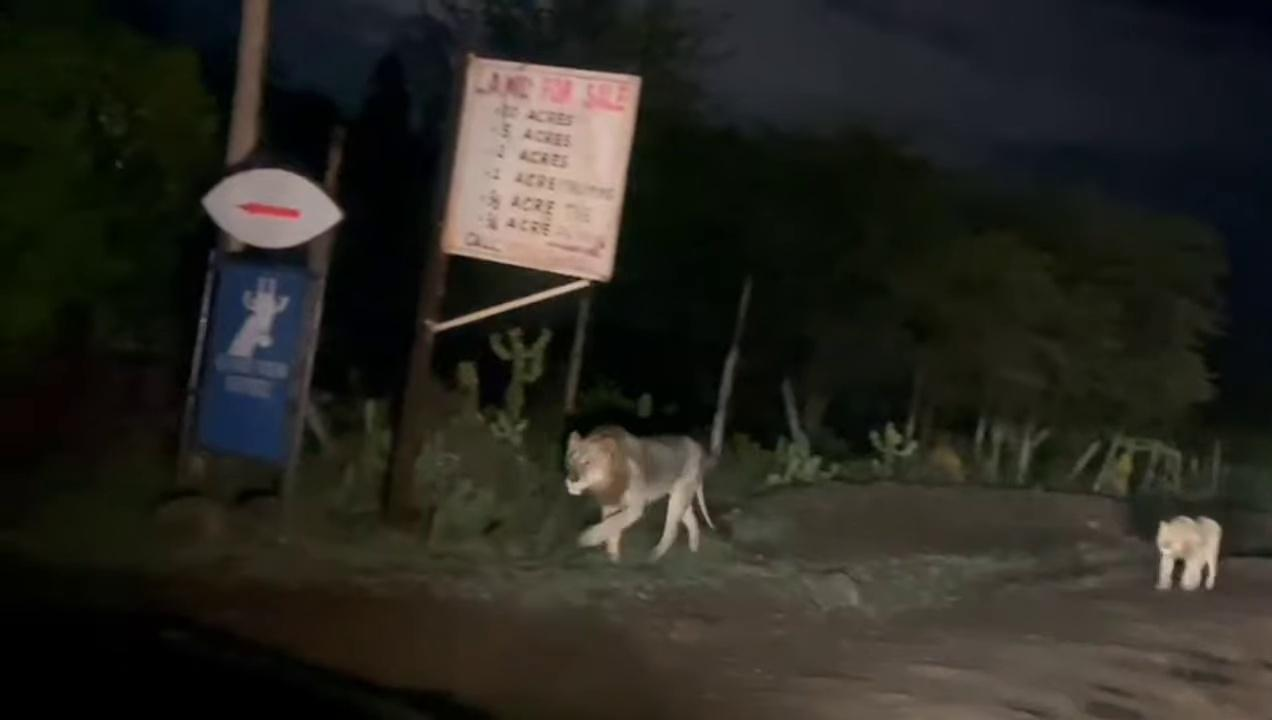lions: (554, 401, 735, 576), (1148, 511, 1225, 606)
